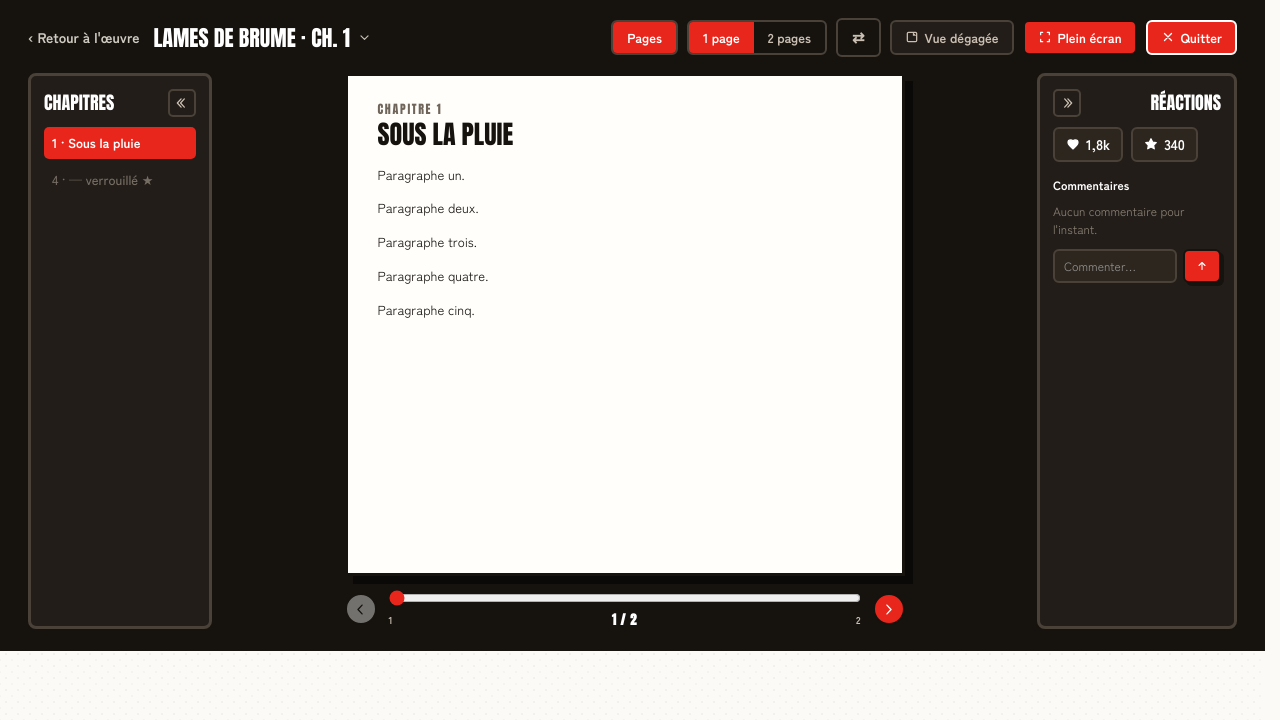
Test: Reader (DR-4 FE-1) › enables the spread toggle for a roman (prose) chapter and renders a 2-page spread
This screenshot has width=1280, height=720.
Check: the button "1 page" is enabled, box left=689, top=22, right=754, bottom=53
Check: the text "Paragraphe un." is shown, box left=378, top=164, right=465, bottom=184
Step 1. Click the button "2 pages" → (789, 37), box left=754, top=22, right=825, bottom=53
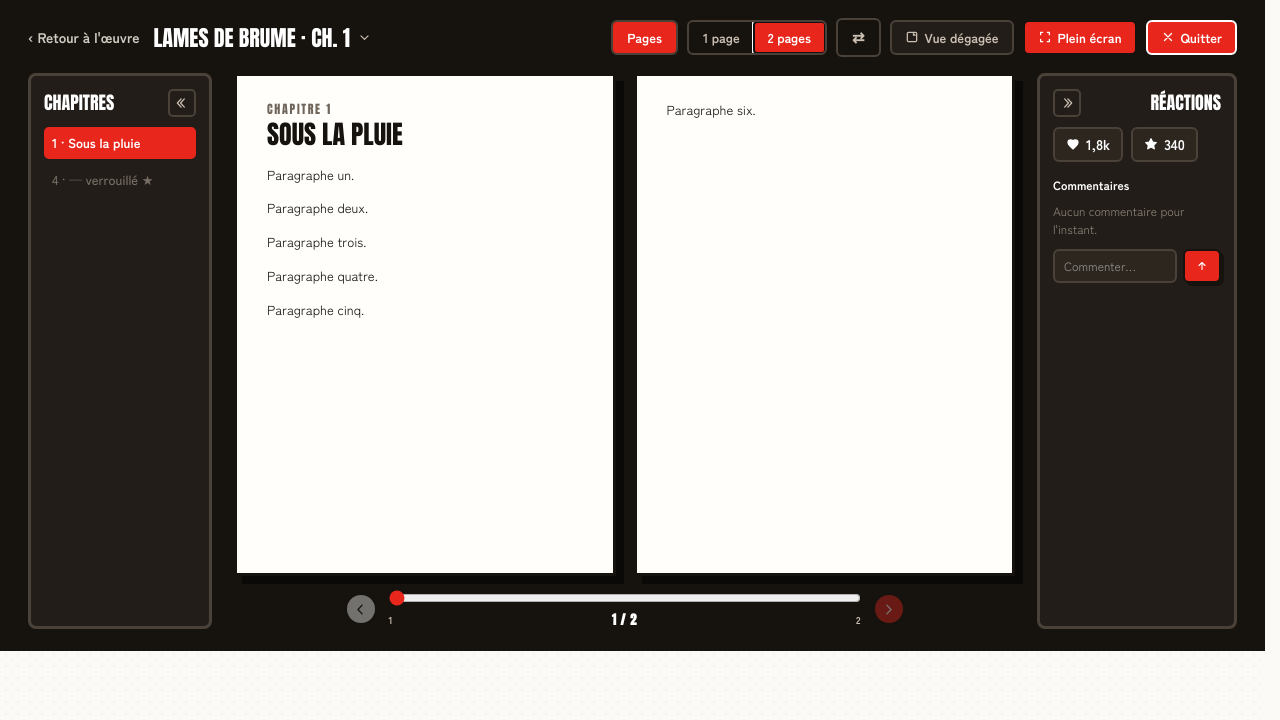
Check: the text "Paragraphe un." is shown, box left=267, top=164, right=354, bottom=184
Check: the text "Paragraphe six." is shown, box left=666, top=100, right=756, bottom=118
